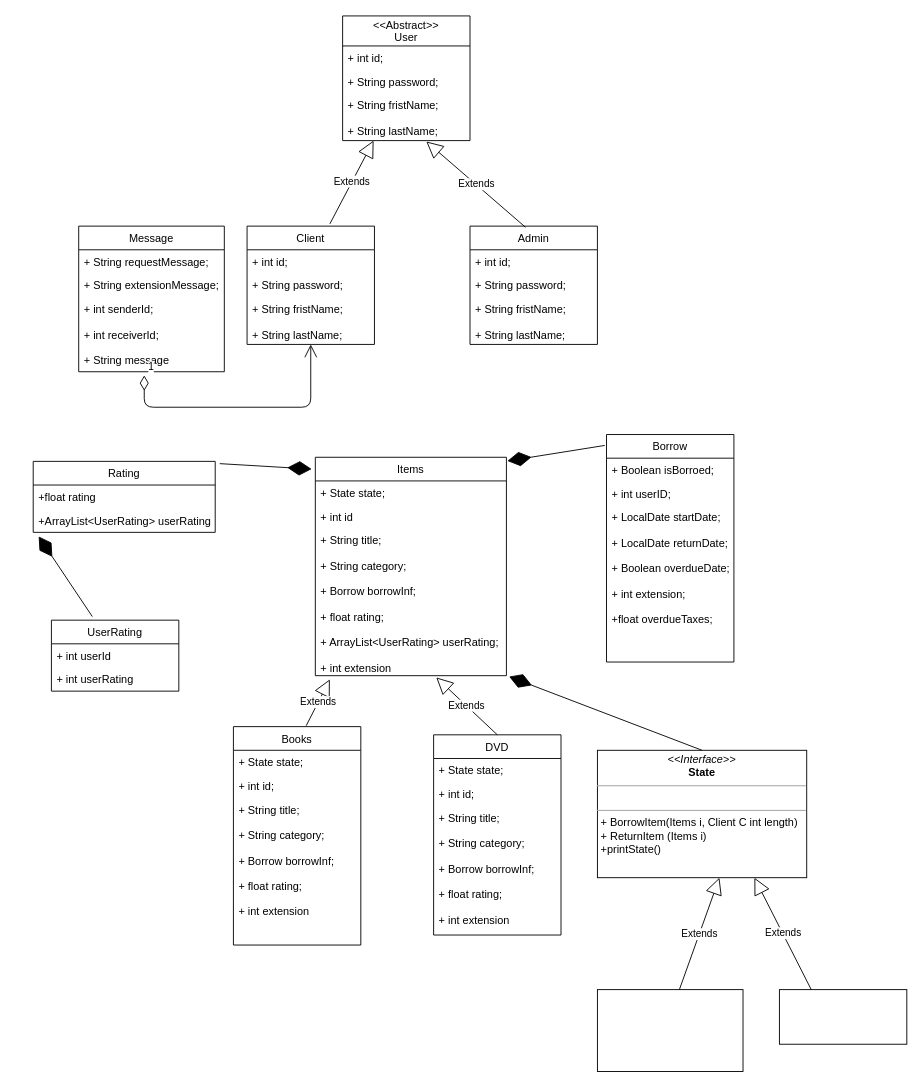
This 923x1087 diagram has some shape labels left out. Each missing label, with the centre of its shape:
"BorrowingState" goes at [670,1030].
"ReturnState" goes at [843,1016].
